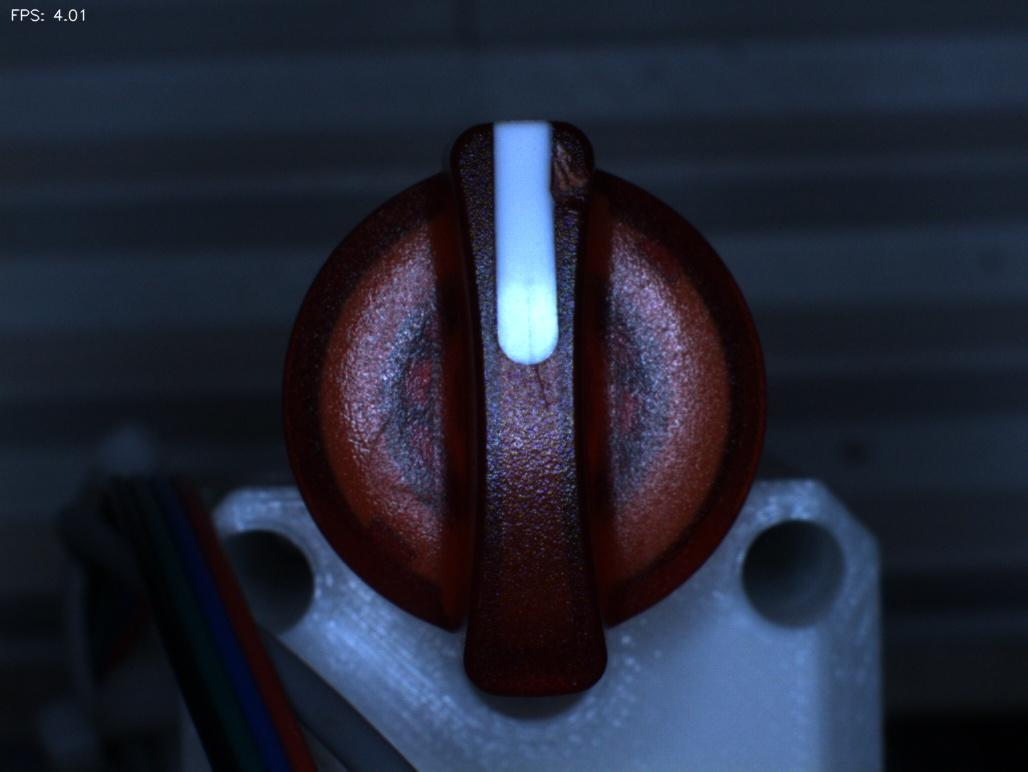Choc: (525, 130, 606, 225)
